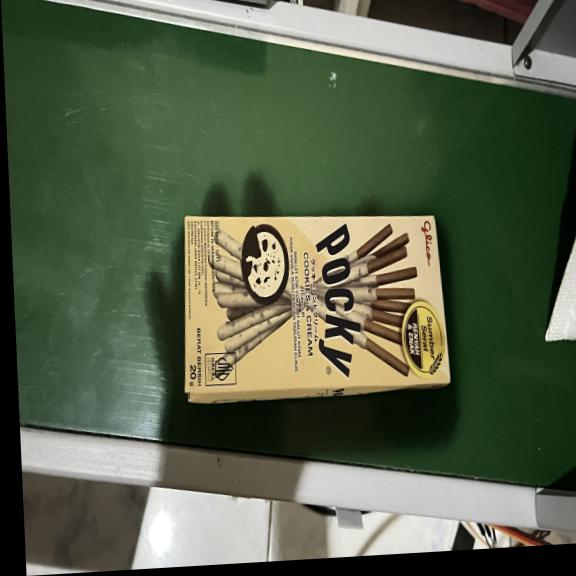Kertas: (172, 214, 442, 401)
